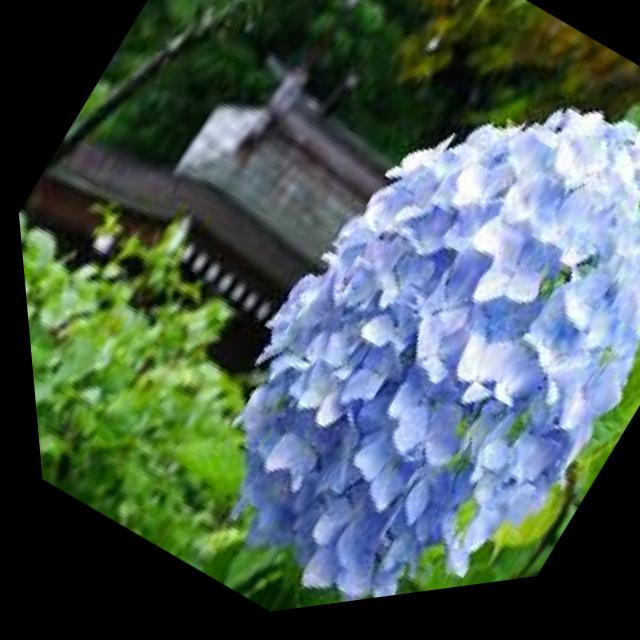Flower: (113, 2, 640, 629)
